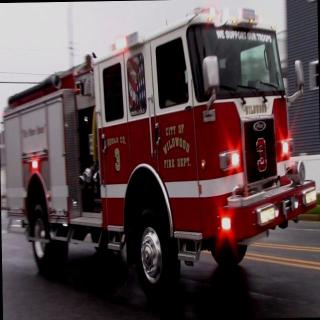Fire_truck: (0, 2, 318, 303)
